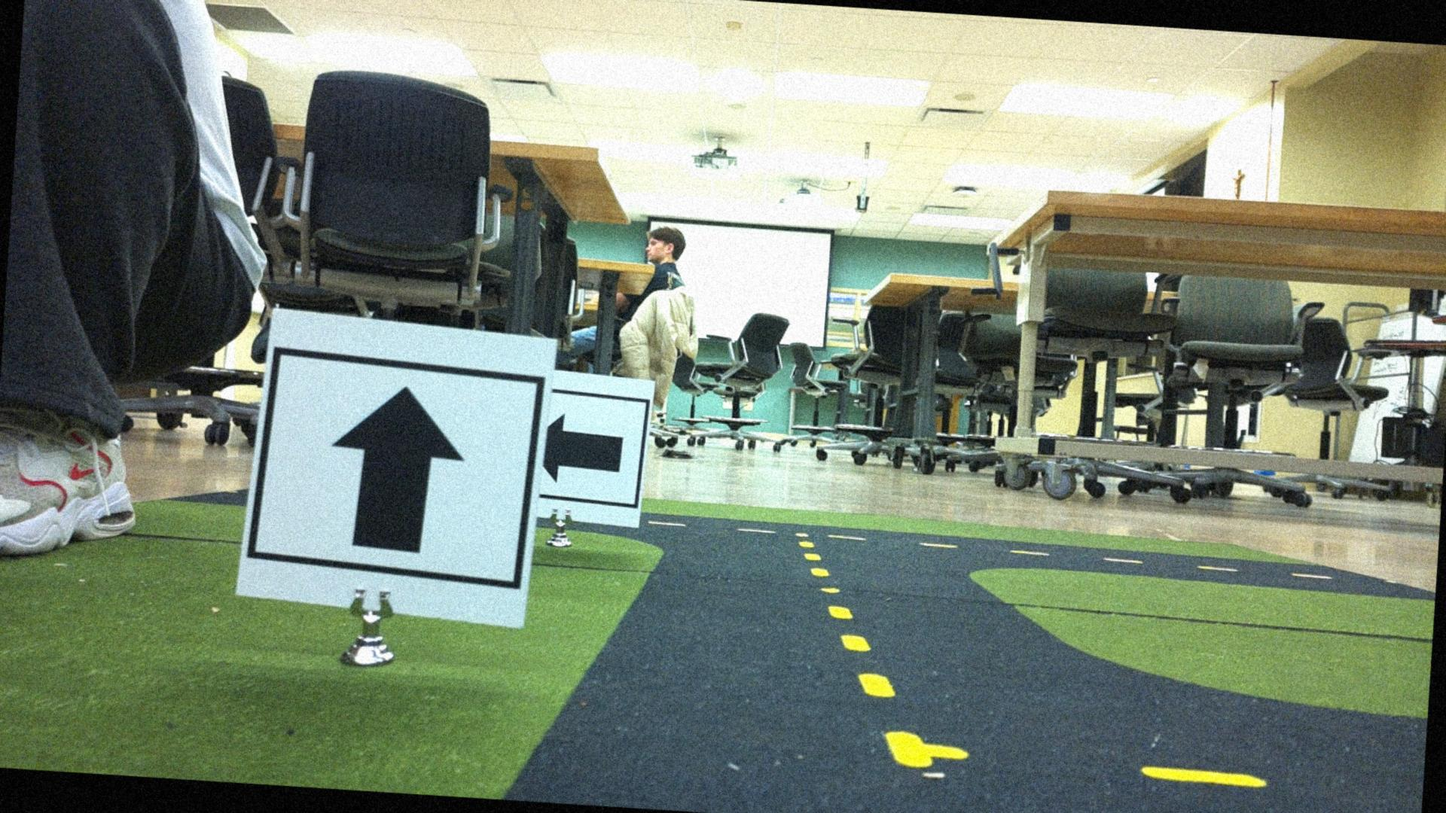gostraight: (243, 318, 533, 620)
turnleft: (543, 397, 654, 514)
yellowline: (783, 529, 940, 769)
